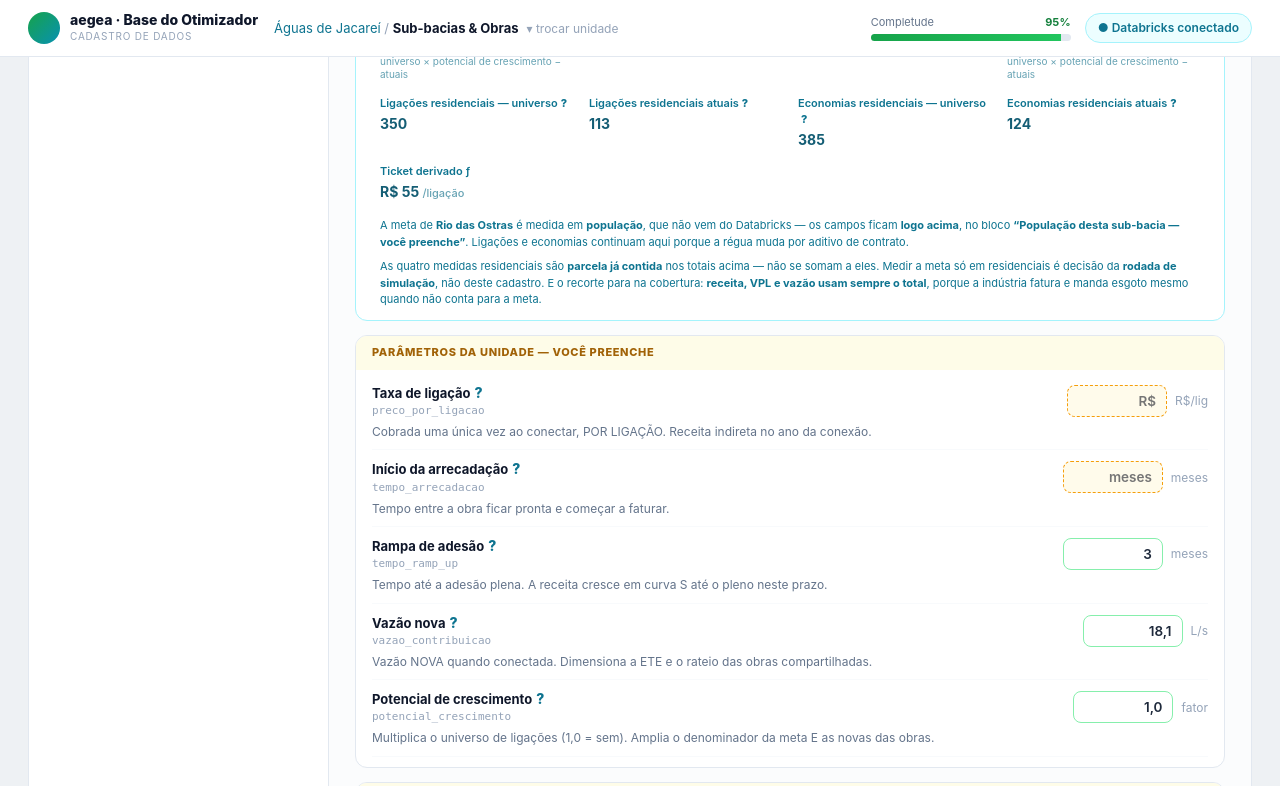
Test case: salvar sub-bacia › sessão expirada tem mensagem própria
(page scrolled)
Type "9" into the field labelled "Taxa de ligação" at (1117, 401), box [1067,385,1167,417]
(page scrolled)
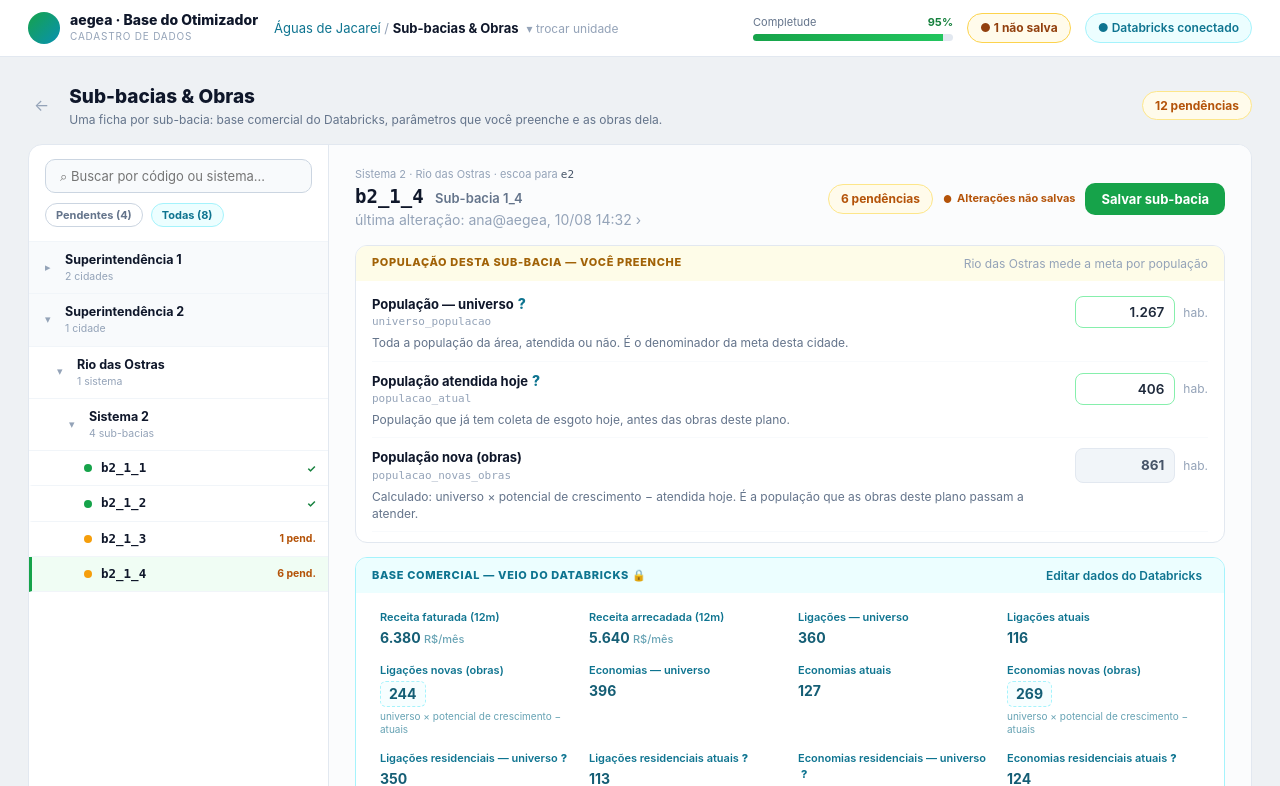
Click the button "Salvar sub-bacia" at (1155, 199), box [1086,183,1225,215]
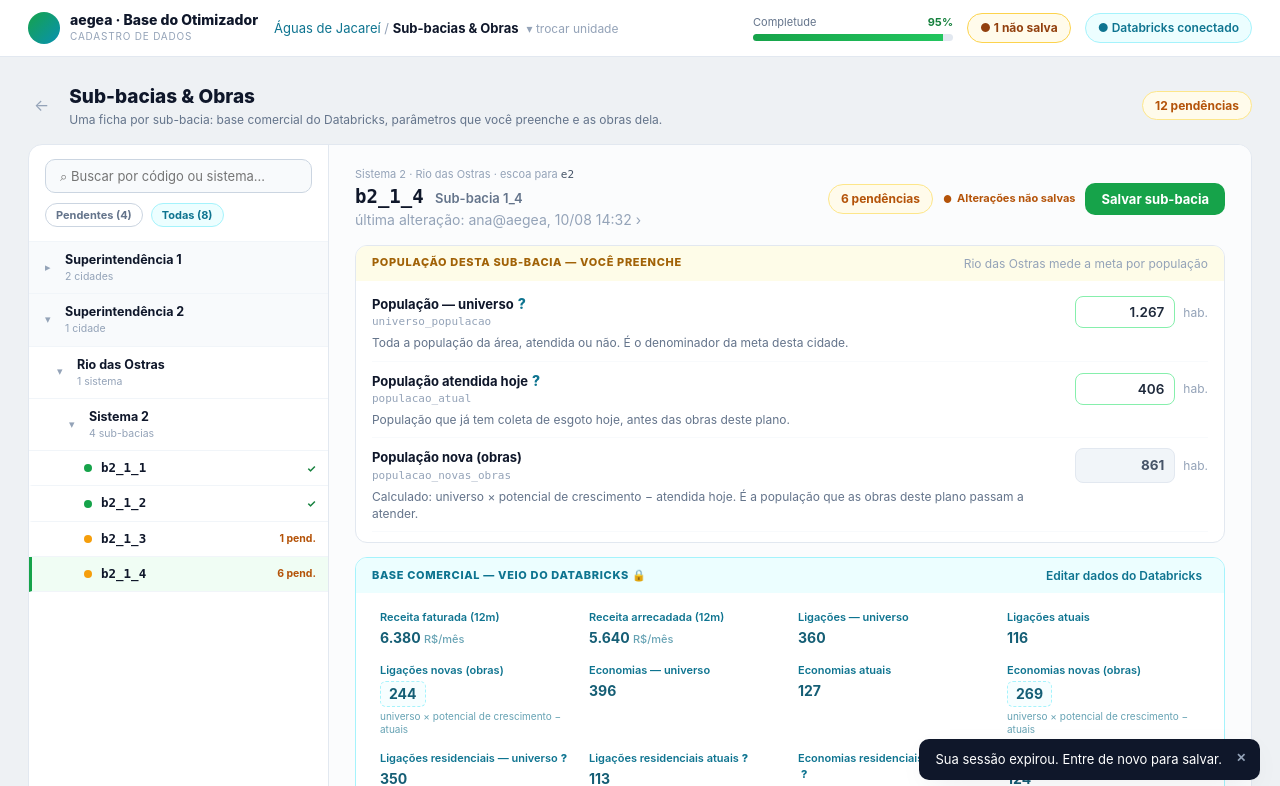
Check: the text "Sua sessão expirou. Entre de novo para salvar." is shown, box [935,750,1222,769]
